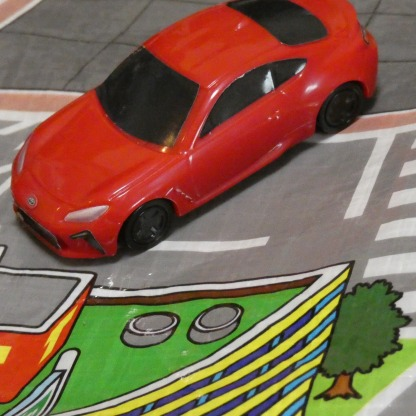car: (10, 0, 377, 259)
